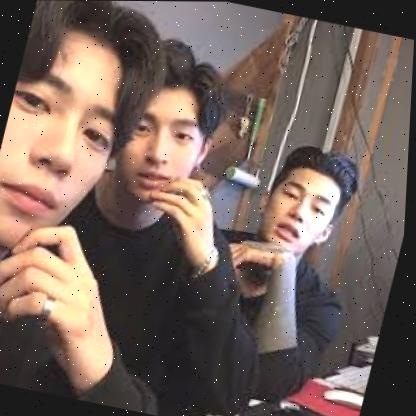person: (0, 0, 160, 271), (112, 27, 250, 219), (251, 133, 369, 275)
